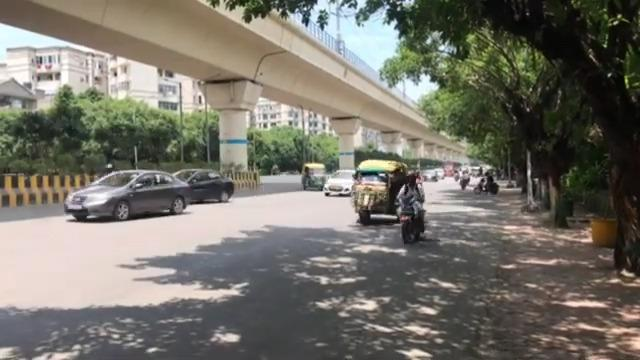Auto: (349, 157, 421, 224), (301, 162, 326, 190)
Bike: (393, 170, 426, 244)
